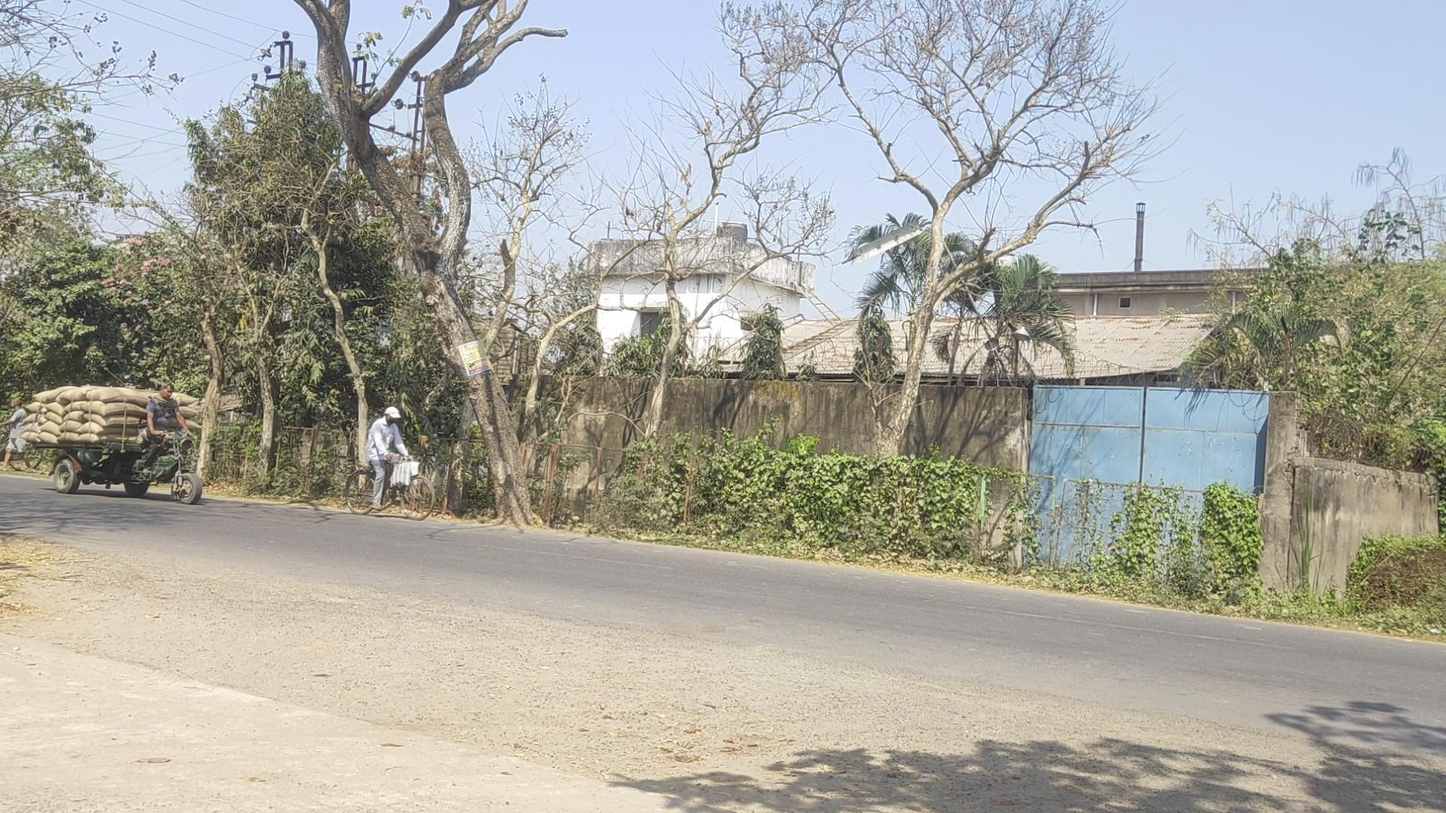bike: (344, 406, 435, 520)
